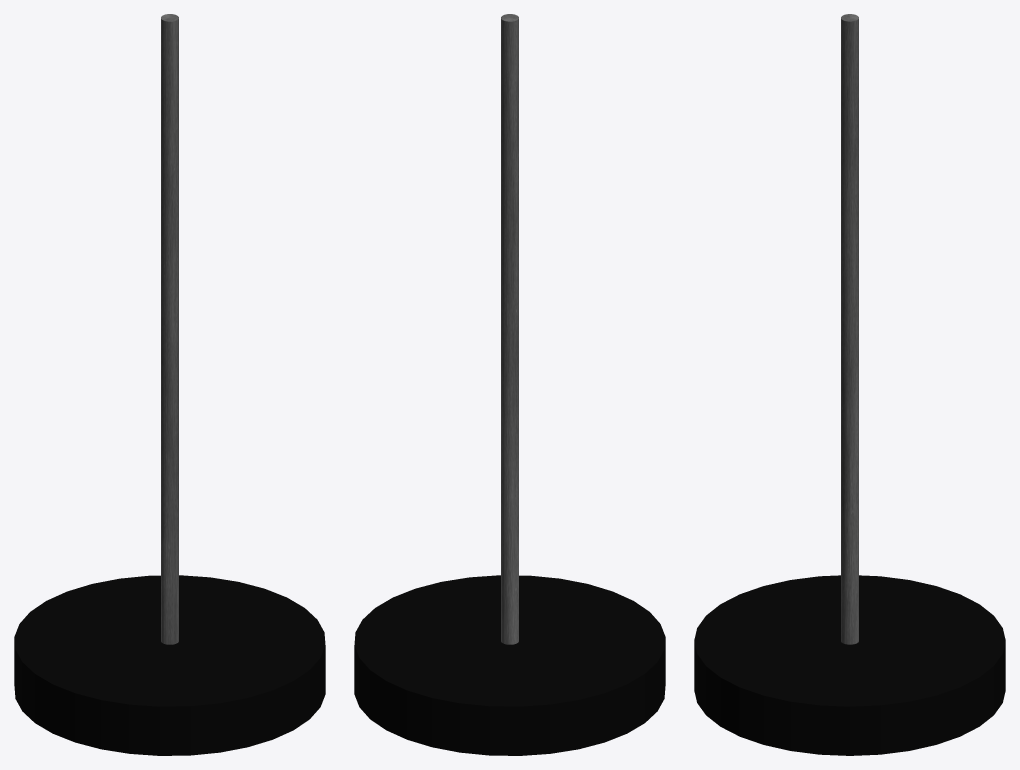
File: TuboPoleDance.fbx
The picture shows the model from 3 angles, left to right: view 1: azimuth 30°, elevation 25°; view 2: azimuth 150°, elevation 25°; view 3: azimuth 270°, elevation 25°; orthographic projection.
Parts seen in each view (by area): view 1: Cylinder, Cylinder.001; view 2: Cylinder, Cylinder.001; view 3: Cylinder, Cylinder.001.
Part boxes in pixels (x1,y1,x2,y2): Cylinder: (14, 575, 325, 755); Cylinder.001: (161, 14, 178, 644); Cylinder: (354, 575, 665, 755); Cylinder.001: (501, 14, 518, 644); Cylinder: (694, 575, 1005, 755); Cylinder.001: (841, 14, 858, 644).
Size of the model in its own units: 292 by 696 by 292.
2 materials, 1 textured.
